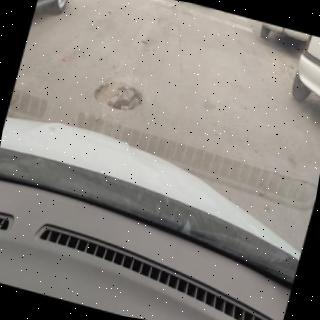pothole: (94, 81, 143, 112)
